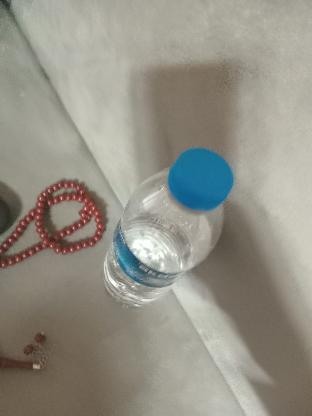Plastic Bottle: (101, 146, 233, 308)
